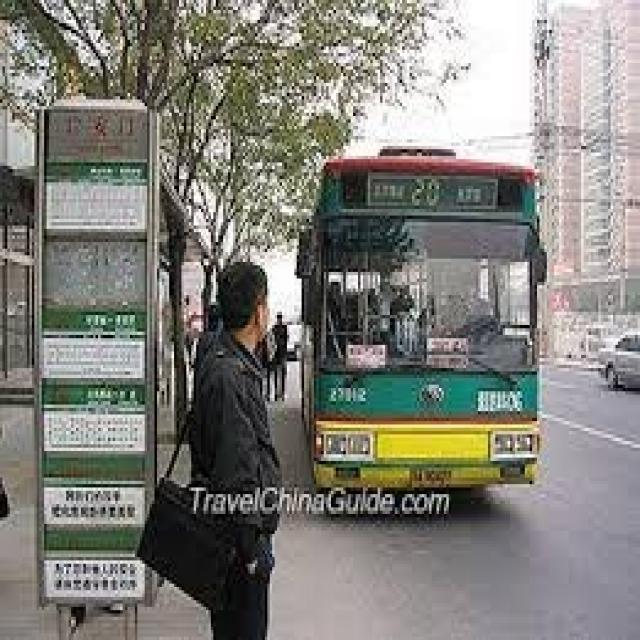bus: (291, 136, 581, 520)
